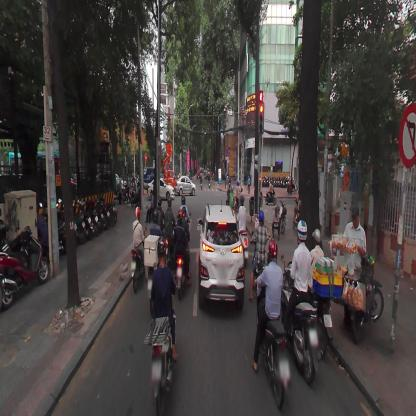Cam dung va do: (225, 147, 228, 155)
Cam re: (399, 99, 416, 167)
